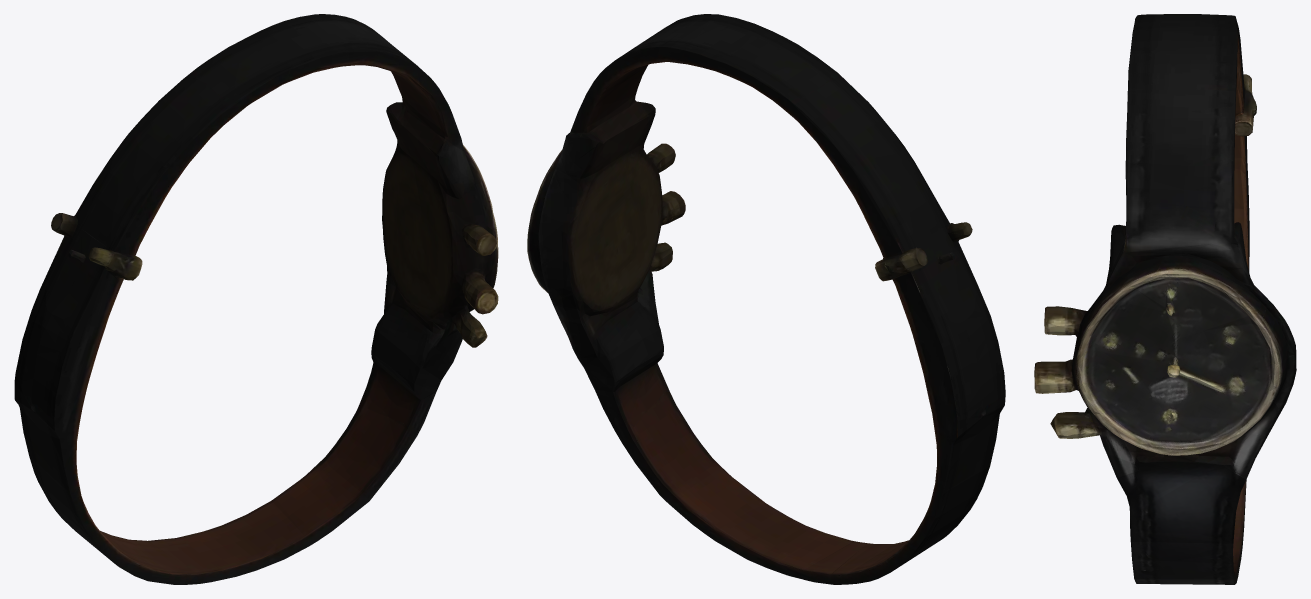
File: black_watch.glb
3 renders of one model, left to right at view 1: azimuth 30°, elevation 25°; view 2: azimuth 150°, elevation 25°; view 3: azimuth 270°, elevation 25°, orthographic. The views are drawn at different scales.
Visible parts, largest first — view 1: geometry_0.020; view 2: geometry_0.020; view 3: geometry_0.020.
Boxes of the visible parts, x1,y1,x2,y2 form: geometry_0.020: [14, 14, 498, 584]; geometry_0.020: [527, 14, 1005, 584]; geometry_0.020: [1034, 14, 1296, 584].
Bounding box in the file's own units: 0.0883 × 0.0976 × 0.0404.
1 material, 1 textured.
